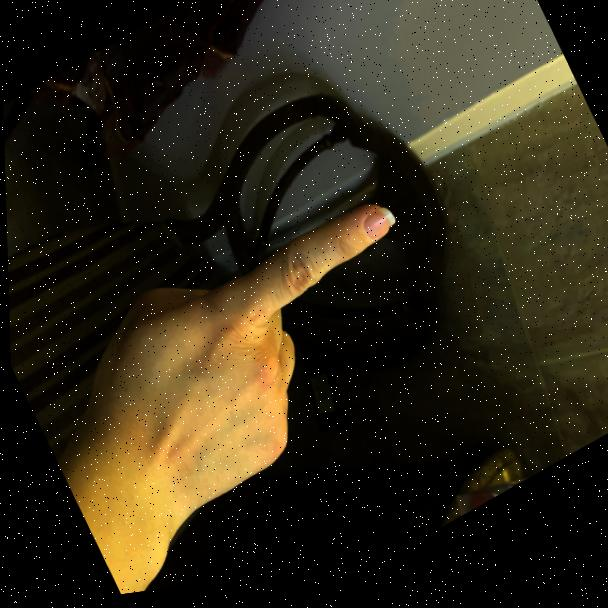one: (29, 158, 477, 581)
